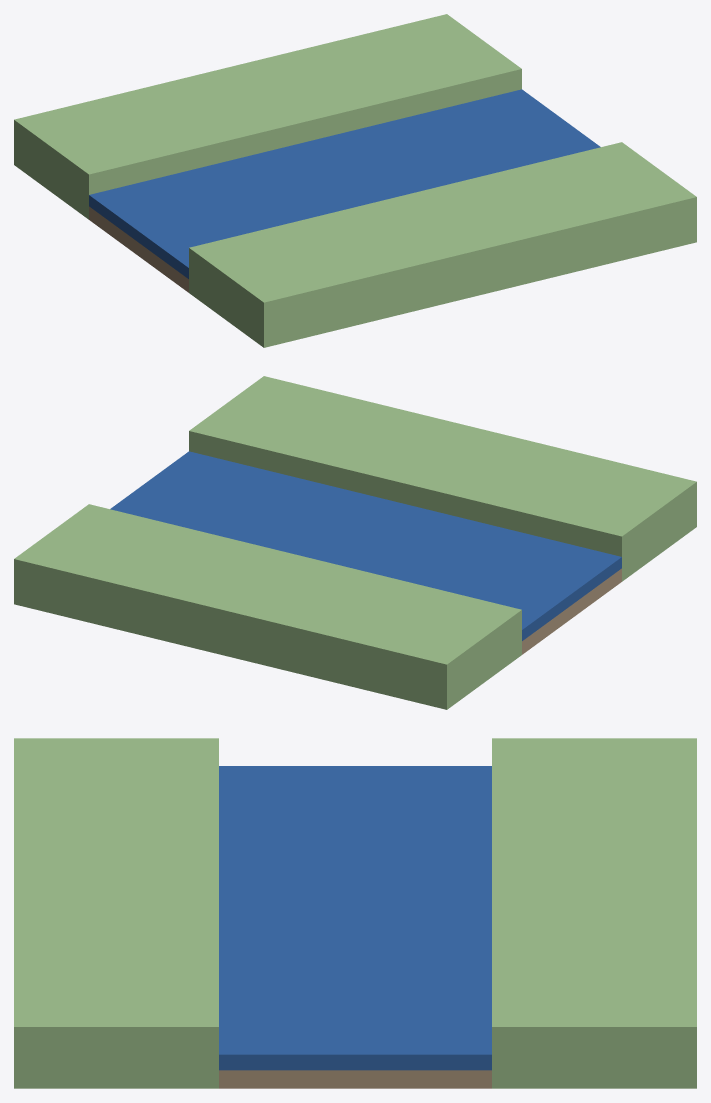
File: river_straight.glb
3 views of the same model, one above another, from view 1: azimuth 30°, elevation 25°; view 2: azimuth 150°, elevation 25°; view 3: azimuth 270°, elevation 25° (orthographic). The views are drawn at different scales.
Visible parts, largest first — view 1: river_straight_grass_left, river_straight_grass_right, river_straight_water, river_straight_bed; view 2: river_straight_grass_right, river_straight_grass_left, river_straight_water, river_straight_bed; view 3: river_straight_water, river_straight_grass_left, river_straight_grass_right, river_straight_bed.
Part boxes in pixels (x1,y1,x2,y2): river_straight_grass_left: [189, 142, 696, 347]; river_straight_grass_right: [14, 14, 521, 219]; river_straight_water: [89, 89, 600, 278]; river_straight_bed: [89, 206, 188, 292]; river_straight_grass_right: [14, 504, 521, 709]; river_straight_grass_left: [189, 376, 696, 581]; river_straight_water: [110, 451, 621, 640]; river_straight_bed: [522, 568, 621, 654]; river_straight_water: [219, 766, 491, 1070]; river_straight_grass_left: [14, 738, 218, 1088]; river_straight_grass_right: [492, 738, 696, 1088]; river_straight_bed: [219, 1070, 491, 1088].
Size of the model in its own units: 2 by 0.2 by 2.
